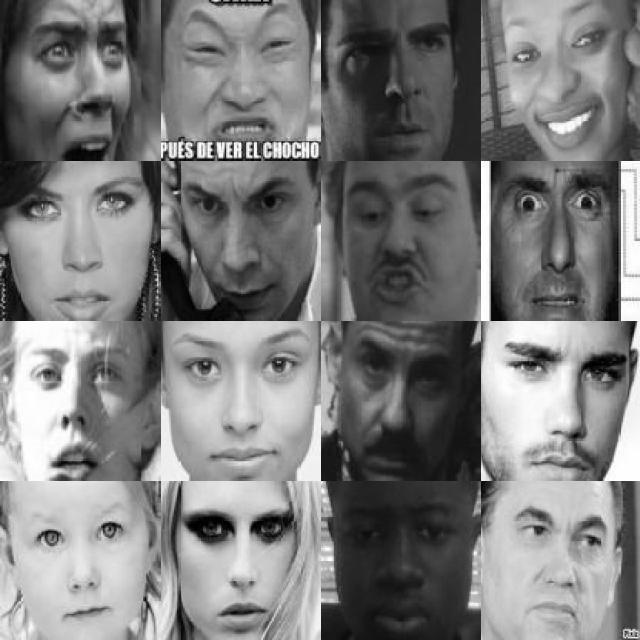angry: (333, 486, 462, 640), (179, 4, 304, 149), (342, 165, 460, 311), (333, 15, 456, 151), (347, 324, 456, 477), (21, 493, 137, 630), (502, 496, 615, 636)
fear: (177, 164, 306, 310), (21, 330, 137, 478), (505, 165, 616, 318), (26, 10, 137, 156)
happy: (502, 4, 622, 152)
neutral: (171, 324, 312, 472), (12, 170, 146, 316), (496, 332, 630, 477), (171, 493, 304, 638)
